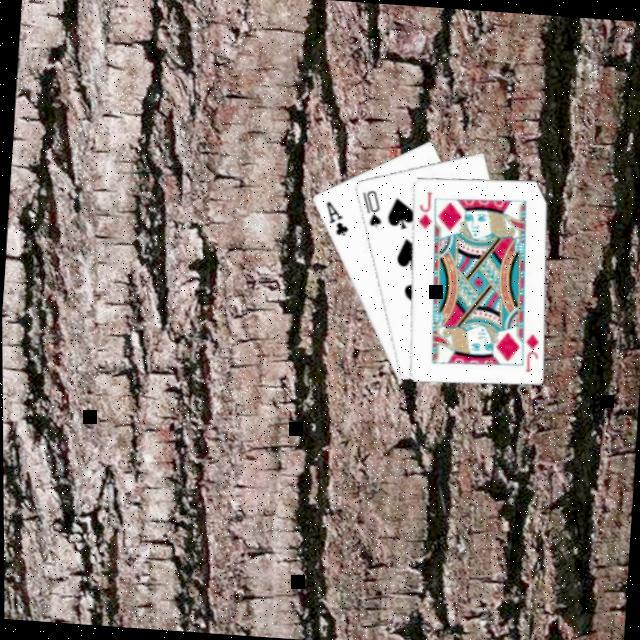10S: (357, 188, 387, 232)
AC: (321, 199, 354, 241)
JD: (414, 189, 436, 234), (520, 332, 542, 376)
